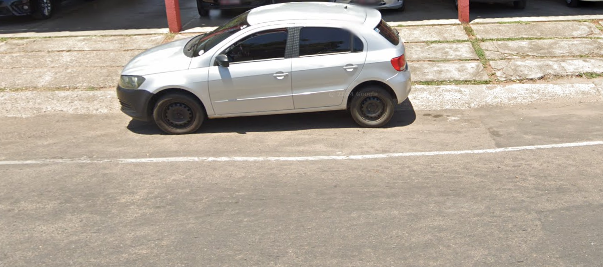car: (116, 1, 413, 139)
